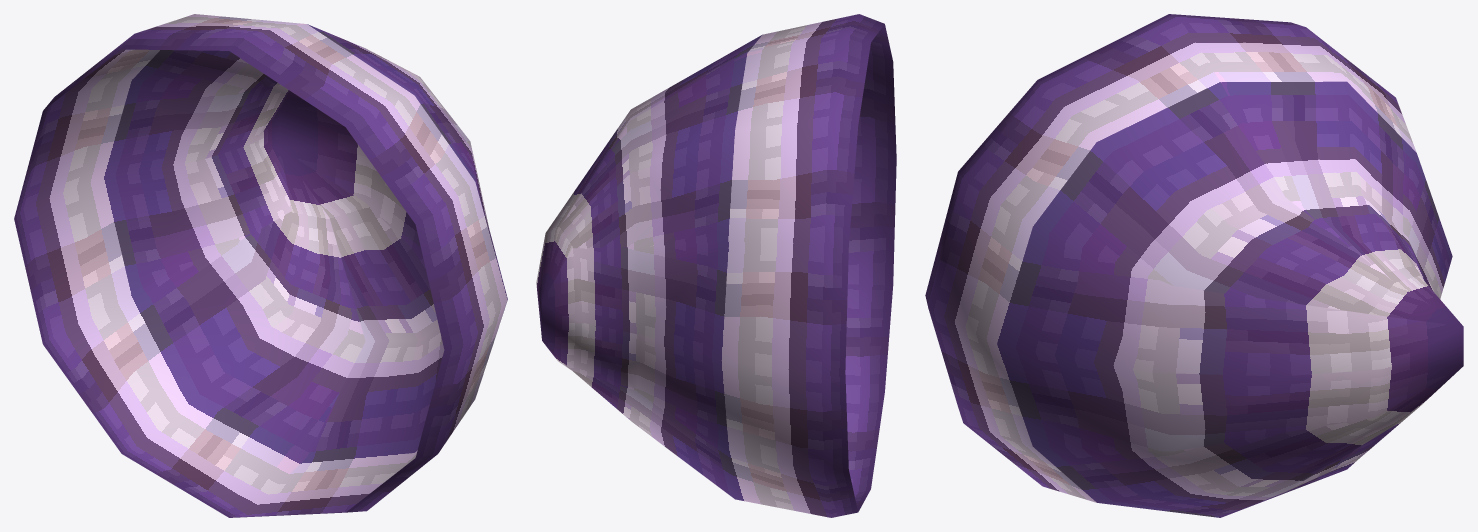
The model's file is cap_knit_ppl.dae.
3 views of the same model, side by side, from view 1: azimuth 30°, elevation 25°; view 2: azimuth 150°, elevation 25°; view 3: azimuth 270°, elevation 25° (orthographic). The views are drawn at different scales.
Parts seen in each view (by area): view 1: cap_knit_ppl; view 2: cap_knit_ppl; view 3: cap_knit_ppl.
Boxes of the visible parts, x1=… form: cap_knit_ppl: x1=14, y1=14, x2=507, y2=517; cap_knit_ppl: x1=536, y1=14, x2=896, y2=517; cap_knit_ppl: x1=925, y1=14, x2=1463, y2=517.
Bounding box in the file's own units: 16.74 × 21.83 × 21.93.
1 material, 1 textured.
